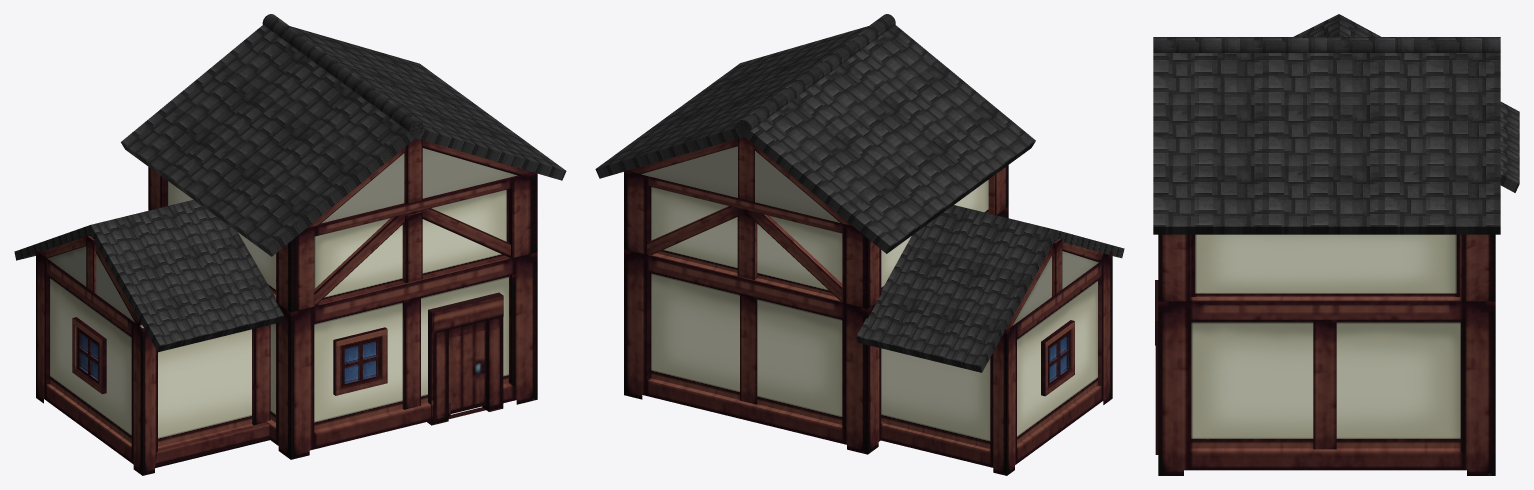
File: house2-big.glb
The picture shows the model from 3 angles, left to right: view 1: azimuth 30°, elevation 25°; view 2: azimuth 150°, elevation 25°; view 3: azimuth 270°, elevation 25°; orthographic projection. The views are drawn at different scales.
Visible parts, largest first — view 1: Plane.005, Walls.003, Walls, Plane.006, Walls.001, door, Plane.002, Plane.004, Cylinder, Cube.002, Plane.008, Walls.002 (+9 smaller); view 2: Plane.005, Walls, Walls.003, Plane.006, Walls.001, Plane.001, Cylinder, Plane.008, Cube.003, Cube.013, Plane.007, Cube.012 (+5 smaller); view 3: Plane.005, Walls, Walls.001, Cylinder, Cube.004, Plane.006, door.
Boxes of the visible parts, x1=… form: Plane.005: x1=121, y1=25, x2=566, y2=256; Walls.003: x1=36, y1=249, x2=269, y2=475; Walls: x1=148, y1=208, x2=537, y2=459; Plane.006: x1=14, y1=200, x2=283, y2=352; Walls.001: x1=148, y1=167, x2=537, y2=312; door: x1=427, y1=292, x2=503, y2=425; Plane.002: x1=321, y1=148, x2=517, y2=223; Plane.004: x1=333, y1=327, x2=387, y2=395; Cylinder: x1=262, y1=14, x2=423, y2=136; Cube.002: x1=402, y1=296, x2=420, y2=409; Plane.008: x1=72, y1=317, x2=106, y2=394; Walls.002: x1=300, y1=173, x2=535, y2=235; Plane.005: x1=595, y1=25, x2=1035, y2=253; Walls: x1=624, y1=206, x2=1008, y2=454; Walls.003: x1=881, y1=252, x2=1112, y2=475; Plane.006: x1=856, y1=205, x2=1124, y2=372; Walls.001: x1=624, y1=165, x2=1008, y2=308; Plane.001: x1=641, y1=146, x2=839, y2=222; Cylinder: x1=737, y1=14, x2=895, y2=132; Plane.008: x1=1041, y1=320, x2=1074, y2=396; Cube.003: x1=740, y1=293, x2=757, y2=404; Cube.013: x1=746, y1=199, x2=842, y2=301; Plane.007: x1=1012, y1=251, x2=1098, y2=325; Cube.012: x1=647, y1=199, x2=749, y2=254; Plane.005: x1=1153, y1=53, x2=1500, y2=234; Walls: x1=1158, y1=301, x2=1495, y2=475; Walls.001: x1=1158, y1=234, x2=1495, y2=301; Cylinder: x1=1153, y1=37, x2=1500, y2=52; Cube.004: x1=1313, y1=320, x2=1336, y2=449; Plane.006: x1=1293, y1=14, x2=1519, y2=192; door: x1=1155, y1=280, x2=1158, y2=454.
Size of the model in its own units: 5.69 by 4.21 by 3.8.
Materials: 43 (43 with a texture image).
